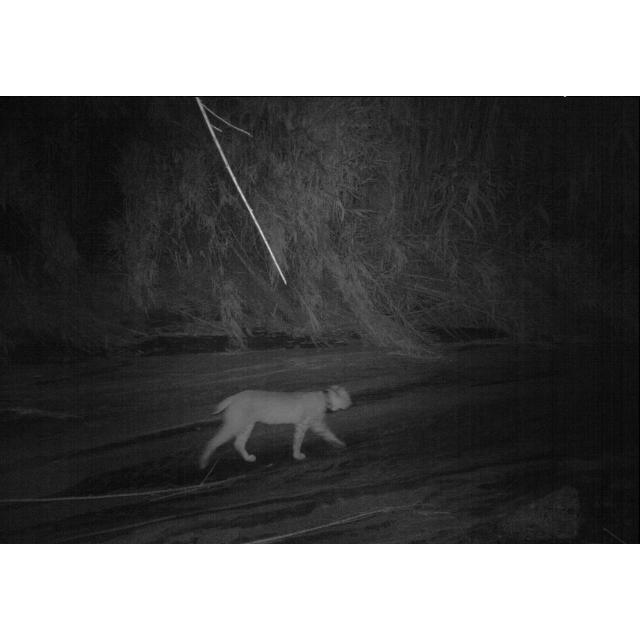animals: (195, 384, 352, 470)
